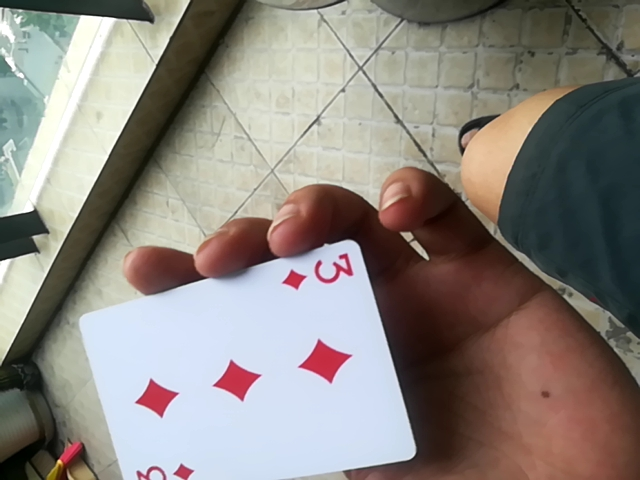fk 3: (73, 233, 414, 480)
